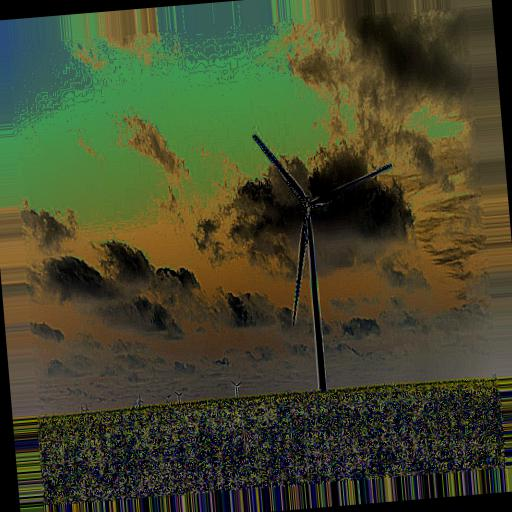wind turbine: (250, 131, 393, 389)
